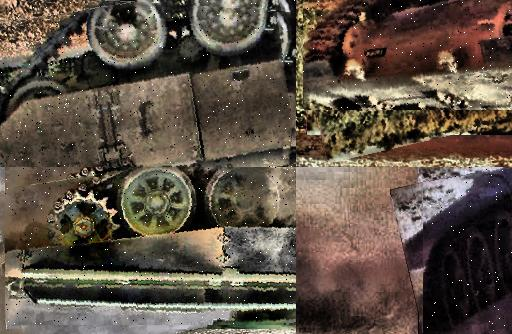tanks: (1, 1, 297, 168), (6, 168, 297, 325), (305, 1, 512, 110), (424, 195, 512, 334)
